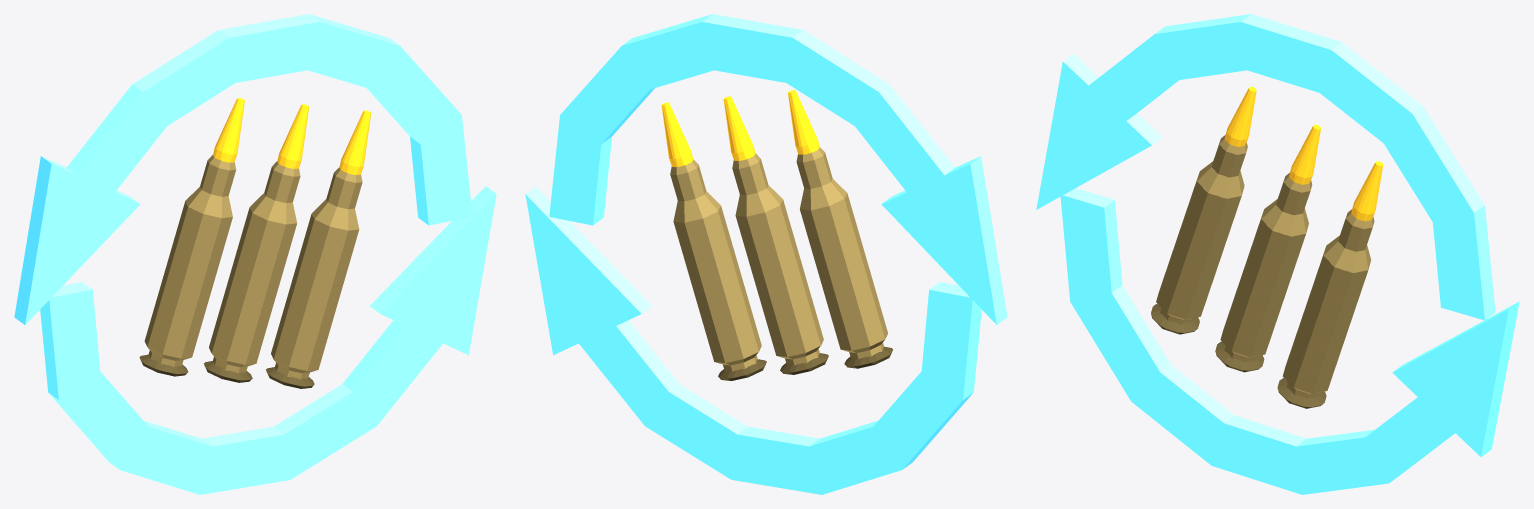
Rendered from LoaderGreaser.fbx.
3 views of the same model, side by side, from view 1: azimuth 30°, elevation 25°; view 2: azimuth 150°, elevation 25°; view 3: azimuth 330°, elevation 25° (orthographic).
Visible parts, largest first — view 1: Plane.002, Plane, Cone.001, Cone.006, Cone.004, Cone.005, Cone.003, Cone.002; view 2: Plane.002, Plane, Cone.001, Cone.006, Cone.004, Cone.003, Cone.005, Cone.002; view 3: Plane.002, Plane, Cone.001, Cone.004, Cone.006, Cone.005, Cone.003, Cone.002.
Part boxes in pixels (x1,y1,x2,y2): Plane.002: (14, 14, 472, 324); Plane: (40, 186, 496, 494); Cone.001: (204, 161, 300, 382); Cone.006: (139, 155, 236, 376); Cone.004: (266, 167, 362, 388); Cone.005: (213, 98, 244, 162); Cone.003: (277, 104, 308, 168); Cone.002: (339, 110, 371, 174); Plane.002: (549, 14, 1007, 324); Plane: (525, 186, 981, 494); Cone.001: (732, 153, 828, 374); Cone.006: (796, 147, 892, 368); Cone.004: (670, 159, 766, 380); Cone.003: (723, 96, 755, 160); Cone.005: (787, 90, 819, 154); Cone.002: (661, 102, 693, 167); Plane.002: (1036, 14, 1495, 320); Plane: (1060, 188, 1519, 494); Cone.001: (1215, 173, 1312, 372); Cone.004: (1277, 209, 1374, 408); Cone.006: (1151, 135, 1247, 334); Cone.005: (1224, 87, 1256, 146); Cone.003: (1289, 124, 1320, 184); Cone.002: (1351, 161, 1383, 221).
Bounding box in the file's own units: 405 × 375 × 37.95.
